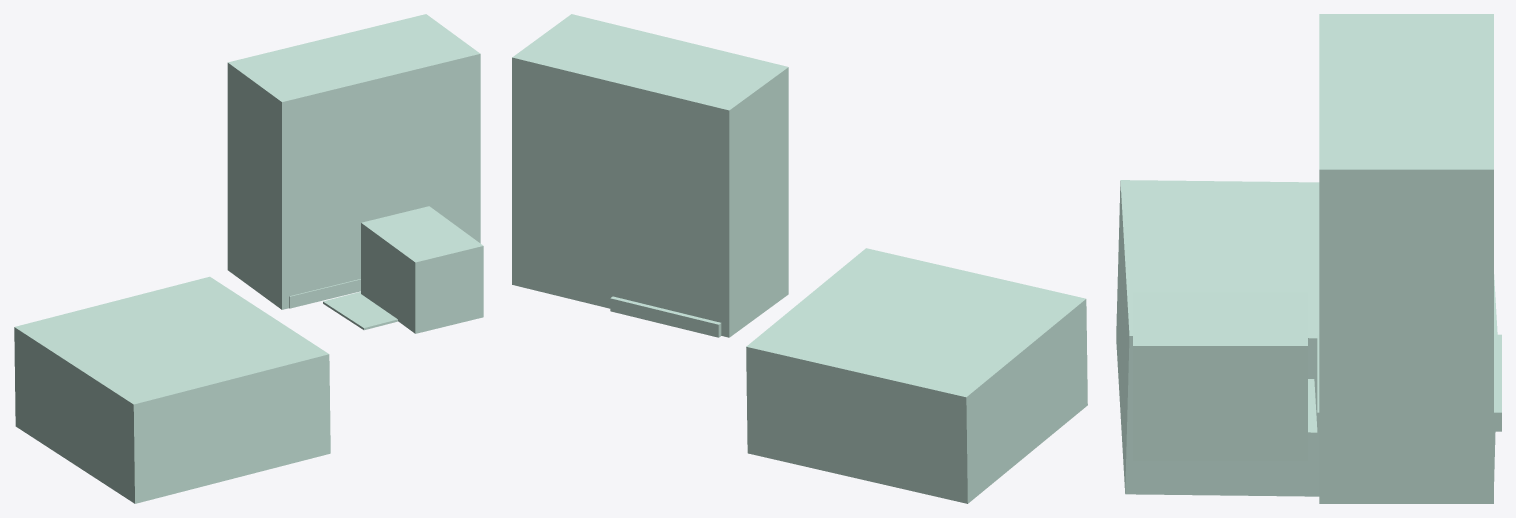
The picture shows the model from 3 angles, left to right: view 1: azimuth 30°, elevation 25°; view 2: azimuth 150°, elevation 25°; view 3: azimuth 270°, elevation 25°; orthographic projection. The views are drawn at different scales.
Parts seen in each view (by area): view 1: Renderer Node; view 2: Renderer Node; view 3: Renderer Node.
Part boxes in pixels (box(x1,y1,x2,y2)): Renderer Node: box(14, 14, 483, 503); Renderer Node: box(512, 14, 1087, 503); Renderer Node: box(1116, 14, 1501, 503).
Size of the model in its own units: 3.12 by 2.23 by 1.57.
